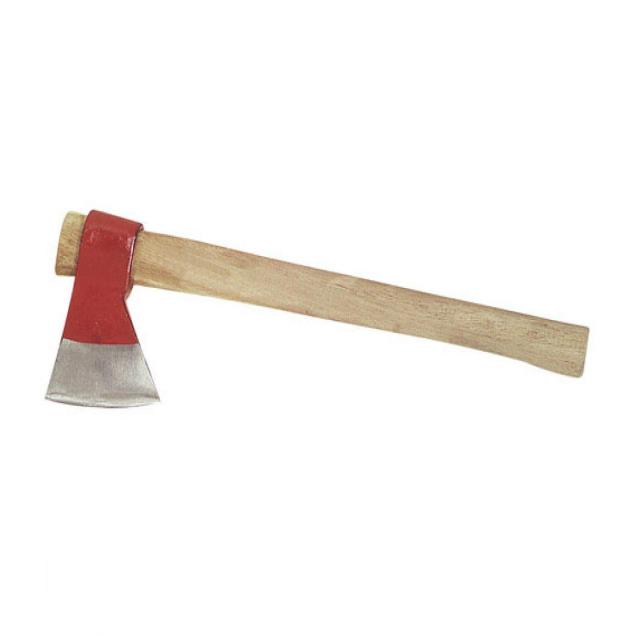Kapak: (44, 196, 556, 421)
